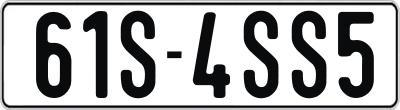1: (81, 9, 108, 96)
4: (190, 10, 230, 98)
5: (336, 12, 376, 100)
6: (34, 11, 70, 103)
S: (289, 10, 326, 100), (241, 11, 275, 103), (120, 10, 155, 99)
